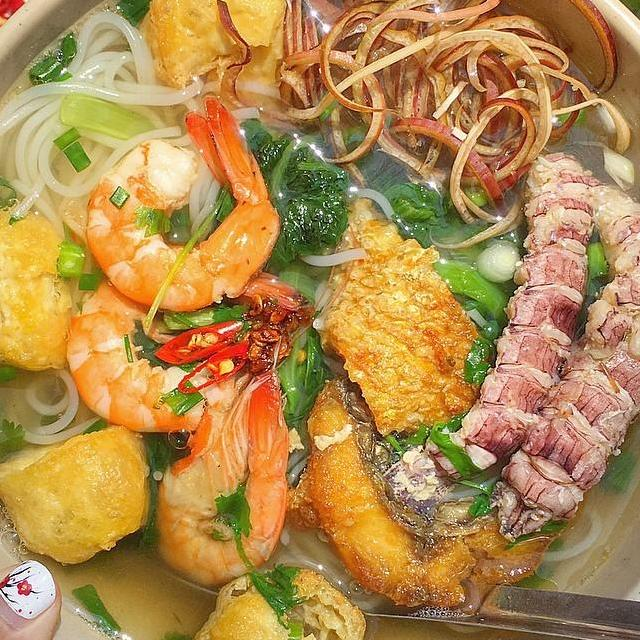bun: (0, 1, 225, 243), (0, 362, 115, 456)
bun hai san: (0, 0, 640, 640)
ca: (282, 370, 568, 623)
dau hu: (0, 416, 159, 572), (129, 0, 299, 101), (0, 194, 85, 386), (185, 556, 375, 640)
tom: (80, 90, 286, 318), (56, 265, 270, 441), (146, 355, 298, 596)
tom tit: (392, 143, 602, 508), (481, 176, 640, 545)
